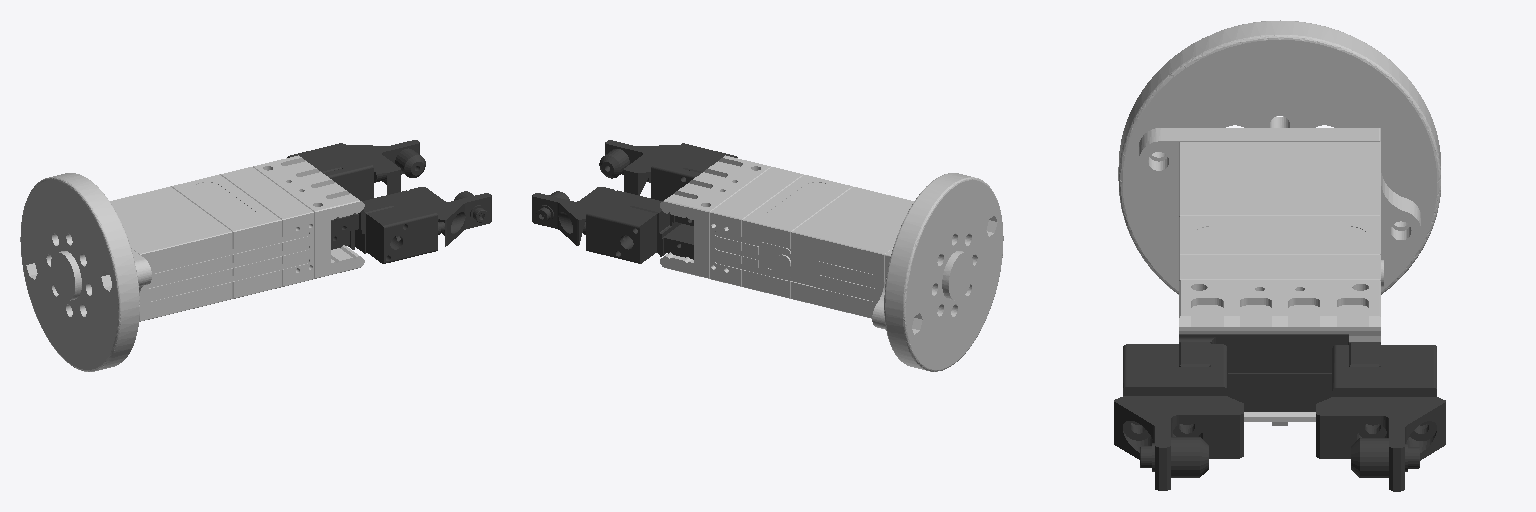
The robot description file, URDF, robot "kr3_egp50":
<?xml version="1.0" ?>
<!-- =================================================================================== -->
<!-- |    This document was autogenerated by xacro from industrial_cell.xacro          | -->
<!-- |    EDITING THIS FILE BY HAND IS NOT RECOMMENDED                                 | -->
<!-- =================================================================================== -->
<robot name="kr3_egp50">
  <!-- colours based on RAL values given in "FAQ - Colours of robot and robot
       controller", version "KUKA.Tifs | 2010-01-21 |YM| DefaultColorsRobotAndController.doc",
       downloaded 2015-07-18 from
       http://www.kuka.be/main/cservice/faqs/hardware/DefaultColorsRobotAndController.pdf

       all RAL colours converted using http://www.visual-graphics.de/en/customer-care/ral-colours
  -->
  <link name="base_link">
    <visual>
      <origin rpy="0 0 0" xyz="0 0 0"/>
      <geometry>
        <mesh filename="package://acroba_resources/meshes/kr3r540/visual/base_link.stl"/>
      </geometry>
      <material name="">
        <color rgba="0.5058823529411764 0.47058823529411764 0.38823529411764707 1.0"/>
      </material>
    </visual>
    <collision>
      <origin rpy="0 0 0" xyz="0 0 0"/>
      <geometry>
        <mesh filename="package://acroba_resources/meshes/kr3r540/collision/base_link.stl"/>
      </geometry>
    </collision>
  </link>
  <link name="link_1">
    <visual>
      <origin rpy="0 0 0" xyz="0 0 0"/>
      <geometry>
        <mesh filename="package://acroba_resources/meshes/kr3r540/visual/link_1.stl"/>
      </geometry>
      <material name="">
        <color rgba="0.9450980392156862 0.9254901960784314 1.0 1.0"/>
      </material>
    </visual>
    <collision>
      <origin rpy="0 0 0" xyz="0 0 0"/>
      <geometry>
        <mesh filename="package://acroba_resources/meshes/kr3r540/collision/link_1.stl"/>
      </geometry>
    </collision>
  </link>
  <link name="link_2">
    <visual>
      <origin rpy="0 0 0" xyz="0 0 0"/>
      <geometry>
        <mesh filename="package://acroba_resources/meshes/kr3r540/visual/link_2.stl"/>
      </geometry>
      <material name="">
        <color rgba="0.9450980392156862 0.9254901960784314 1.0 1.0"/>
      </material>
    </visual>
    <collision>
      <origin rpy="0 0 0" xyz="0 0 0"/>
      <geometry>
        <mesh filename="package://acroba_resources/meshes/kr3r540/collision/link_2.stl"/>
      </geometry>
    </collision>
  </link>
  <link name="link_3">
    <visual>
      <origin rpy="0 0 0" xyz="0 0 0"/>
      <geometry>
        <mesh filename="package://acroba_resources/meshes/kr3r540/visual/link_3.stl"/>
      </geometry>
      <material name="">
        <color rgba="0.9450980392156862 0.9254901960784314 1.0 1.0"/>
      </material>
    </visual>
    <collision>
      <origin rpy="0 0 0" xyz="0 0 0"/>
      <geometry>
        <mesh filename="package://acroba_resources/meshes/kr3r540/collision/link_3.stl"/>
      </geometry>
    </collision>
  </link>
  <link name="link_4">
    <visual>
      <origin rpy="0 0 0" xyz="0 0 0"/>
      <geometry>
        <mesh filename="package://acroba_resources/meshes/kr3r540/visual/link_4.stl"/>
      </geometry>
      <material name="">
        <color rgba="0.9450980392156862 0.9254901960784314 1.0 1.0"/>
      </material>
    </visual>
    <collision>
      <origin rpy="0 0 0" xyz="0 0 0"/>
      <geometry>
        <mesh filename="package://acroba_resources/meshes/kr3r540/collision/link_4.stl"/>
      </geometry>
    </collision>
  </link>
  <link name="link_5">
    <visual>
      <origin rpy="0 0 0" xyz="0 0 0"/>
      <geometry>
        <mesh filename="package://acroba_resources/meshes/kr3r540/visual/link_5.stl"/>
      </geometry>
      <material name="">
        <color rgba="0.9450980392156862 0.9254901960784314 1.0 1.0"/>
      </material>
    </visual>
    <collision>
      <origin rpy="0 0 0" xyz="0 0 0"/>
      <geometry>
        <mesh filename="package://acroba_resources/meshes/kr3r540/collision/link_5.stl"/>
      </geometry>
    </collision>
  </link>
  <link name="link_6">
    <visual>
      <origin rpy="0 0 0" xyz="0 0 0"/>
      <geometry>
        <mesh filename="package://acroba_resources/meshes/kr3r540/visual/link_6.stl"/>
      </geometry>
      <material name="">
        <color rgba="0.5058823529411764 0.47058823529411764 0.38823529411764707 1.0"/>
      </material>
    </visual>
    <collision>
      <origin rpy="0 0 0" xyz="0 0 0"/>
      <geometry>
        <mesh filename="package://acroba_resources/meshes/kr3r540/collision/link_6.stl"/>
      </geometry>
    </collision>
  </link>
  <!-- Following REP199, this frame shall be use to attach EEF or other equipment -->
  <link name="flange"/>
  <joint name="joint_a1" type="revolute">
    <origin rpy="0 0 0" xyz="0 0 0.345"/>
    <parent link="base_link"/>
    <child link="link_1"/>
    <axis xyz="0 0 -1"/>
    <limit effort="0" lower="-2.9670597283903604" upper="2.9670597283903604" velocity="9.250245035569947"/>
  </joint>
  <joint name="joint_a2" type="revolute">
    <origin rpy="0 0 0" xyz="0.020 0 0"/>
    <parent link="link_1"/>
    <child link="link_2"/>
    <axis xyz="0 1 0"/>
    <limit effort="0" lower="-2.9670597283903604" upper="0.8726646259971648" velocity="9.232791743050003"/>
  </joint>
  <joint name="joint_a3" type="revolute">
    <origin rpy="0 0 0" xyz="0.260 0 0"/>
    <parent link="link_2"/>
    <child link="link_3"/>
    <axis xyz="0 1 0"/>
    <limit effort="0" lower="-1.9198621771937625" upper="2.705260340591211" velocity="9.389871375729493"/>
  </joint>
  <joint name="joint_a4" type="revolute">
    <origin rpy="0 0 0" xyz="0 0 0.020"/>
    <parent link="link_3"/>
    <child link="link_4"/>
    <axis xyz="-1 0 0"/>
    <limit effort="0" lower="-3.0543261909900767" upper="3.0543261909900767" velocity="10.471975511965978"/>
  </joint>
  <joint name="joint_a5" type="revolute">
    <origin rpy="0 0 0" xyz="0.260 0 0"/>
    <parent link="link_4"/>
    <child link="link_5"/>
    <axis xyz="0 1 0"/>
    <limit effort="0" lower="-2.0943951023931953" upper="2.0943951023931953" velocity="10.471975511965978"/>
  </joint>
  <joint name="joint_a6" type="revolute">
    <origin rpy="0 0 0" xyz="0.075 0 0"/>
    <parent link="link_5"/>
    <child link="link_6"/>
    <axis xyz="-1 0 0"/>
    <limit effort="0" lower="-6.1086523819801535" upper="6.1086523819801535" velocity="13.962634015954636"/>
  </joint>
  <joint name="joint_a6-tool0" type="fixed">
    <parent link="link_6"/>
    <child link="flange"/>
    <origin rpy="0 0 0" xyz="0 0 0"/>
  </joint>
  <!-- ROS base_link to KUKA $ROBROOT coordinate system transform -->
  <link name="base"/>
  <joint name="base_link-base" type="fixed">
    <origin rpy="0 0 0" xyz="0 0 0"/>
    <parent link="base_link"/>
    <child link="base"/>
  </joint>
  <!-- This frame corresponds to the $TOOL coordinate system in KUKA KRC controllers -->
  <link name="tool0"/>
  <joint name="flange-tool0" type="fixed">
    <parent link="flange"/>
    <child link="tool0"/>
    <origin rpy="0 1.5707963267948966 0" xyz="0 0 0"/>
  </joint>
  <material name="schunk_dark_grey">
    <color rgba="0.3 0.3 0.3 1.0"/>
  </material>
  <material name="schunk_grey">
    <color rgba="0.8 0.8 0.8 1.0"/>
  </material>
  <link name="base_tool"/>
  <link name="tool_plate">
    <visual>
      <origin rpy="0 0 0" xyz="0 0 0.0"/>
      <geometry>
        <mesh filename="package://acroba_resources/meshes/schunk_EGP50/visual/schunk_plate.stl"/>
      </geometry>
      <material name="schunk_grey"/>
    </visual>
    <collision>
      <origin rpy="0 0 0" xyz="0 0 -0.0145"/>
      <geometry>
        <cylinder length="0.013" radius="0.04"/>
      </geometry>
    </collision>
  </link>
  <link name="tool_adaptor">
    <visual>
      <origin rpy="0 0 0" xyz="0 0 0.0"/>
      <geometry>
        <mesh filename="package://acroba_resources/meshes/schunk_EGP50/visual/schunk_adaptor.stl"/>
      </geometry>
      <material name="schunk_grey"/>
    </visual>
    <collision>
      <origin rpy="0 0 0" xyz="0 0 -0.004"/>
      <geometry>
        <box size="0.03 0.07 0.008"/>
      </geometry>
    </collision>
  </link>
  <link name="tool_body">
    <visual>
      <origin rpy="0 0 0" xyz="0 0 0.0"/>
      <geometry>
        <mesh filename="package://acroba_resources/meshes/schunk_EGP50/visual/schunk_body_scaled.stl"/>
      </geometry>
      <material name="schunk_grey"/>
    </visual>
    <collision>
      <origin rpy="0 0 0" xyz="0 0 0.0522"/>
      <geometry>
        <box size="0.03 0.0508 0.104"/>
      </geometry>
    </collision>
  </link>
  <link name="_left_base_finger">
    <visual>
      <origin rpy="0 0 0" xyz="0 0 0.0"/>
      <geometry>
        <mesh filename="package://acroba_resources/meshes/schunk_EGP50/visual/schunk_left_finger_base_scaled.stl"/>
      </geometry>
      <material name="schunk_dark_grey"/>
    </visual>
    <collision>
      <origin rpy="0 0 0" xyz="0.0 -0.021 0.11"/>
      <geometry>
        <box size="0.0195 0.008 0.014"/>
      </geometry>
    </collision>
  </link>
  <link name="_right_base_finger">
    <visual>
      <origin rpy="0 0 0" xyz="0 0 0.0"/>
      <geometry>
        <mesh filename="package://acroba_resources/meshes/schunk_EGP50/visual/schunk_right_finger_base_scaled.stl"/>
      </geometry>
      <material name="schunk_dark_grey"/>
    </visual>
    <collision>
      <origin rpy="0 0 0" xyz="0.0 0.021 0.11"/>
      <geometry>
        <box size="0.0195 0.008 0.014"/>
      </geometry>
    </collision>
  </link>
  <link name="_left_adaptor_finger">
    <visual>
      <origin rpy="0 0 0" xyz="0 0 0.0"/>
      <geometry>
        <mesh filename="package://acroba_resources/meshes/schunk_EGP50/visual/schunk_left_adaptor_scaled.stl"/>
      </geometry>
      <material name="schunk_dark_grey"/>
    </visual>
    <collision>
      <origin rpy="0 0 0" xyz="0.0 -0.0264 0.1231"/>
      <geometry>
        <box size="0.017 0.026 0.036"/>
      </geometry>
    </collision>
  </link>
  <link name="_right_adaptor_finger">
    <visual>
      <origin rpy="0 0 0" xyz="0 0 0.0"/>
      <geometry>
        <mesh filename="package://acroba_resources/meshes/schunk_EGP50/visual/schunk_right_adaptor_scaled.stl"/>
      </geometry>
      <material name="schunk_dark_grey"/>
    </visual>
    <collision>
      <origin rpy="0 0 0" xyz="0.0 0.0264 0.1231"/>
      <geometry>
        <box size="0.017 0.026 0.036"/>
      </geometry>
    </collision>
  </link>
  <link name="_left_visual_finger_tip">
    <visual>
      <origin rpy="0 0 0" xyz="0 0 0.0"/>
      <geometry>
        <mesh filename="package://acroba_resources/meshes/schunk_EGP50/visual/schunk_left_tip_visual.stl"/>
      </geometry>
      <material name="schunk_dark_grey"/>
    </visual>
    <collision>
      <origin rpy="0 0 0" xyz="0.0 -0.029 0.1505"/>
      <geometry>
        <box size="0.012 0.004 0.019"/>
      </geometry>
    </collision>
  </link>
  <link name="_right_visual_finger_tip">
    <visual>
      <origin rpy="0 0 0" xyz="0 0 0.0"/>
      <geometry>
        <mesh filename="package://acroba_resources/meshes/schunk_EGP50/visual/schunk_right_tip_visual.stl"/>
      </geometry>
      <material name="schunk_dark_grey"/>
    </visual>
    <collision>
      <origin rpy="0 0 0" xyz="0.0 0.029 0.1505"/>
      <geometry>
        <box size="0.012 0.004 0.019"/>
      </geometry>
    </collision>
  </link>
  <link name="_right_collision_finger_tip">
    <collision>
      <origin rpy="1.5707 0 0" xyz="0.0 0.0265 0.153"/>
      <geometry>
        <cylinder length="0.017" radius="0.005"/>
      </geometry>
    </collision>
  </link>
  <link name="_left_collision_finger_tip">
    <collision>
      <origin rpy="1.5707 0 0" xyz="0.0 -0.0266 0.153"/>
      <geometry>
        <cylinder length="0.017" radius="0.005"/>
      </geometry>
    </collision>
  </link>
  <joint name="_tool_base_plate" type="fixed">
    <origin rpy="0 0 0" xyz="0 0 0.018"/>
    <parent link="base_tool"/>
    <child link="tool_plate"/>
  </joint>
  <joint name="_tool_plate_adaptor" type="fixed">
    <origin rpy="0 0 0" xyz="0 0 0.0"/>
    <parent link="tool_plate"/>
    <child link="tool_adaptor"/>
  </joint>
  <joint name="_tool_adaptor_body" type="fixed">
    <origin rpy="0 0 0" xyz="0 0 0.0"/>
    <parent link="tool_adaptor"/>
    <child link="tool_body"/>
  </joint>
  <joint name="_left_finger_base_joint" type="prismatic">
    <origin rpy="0 0 0" xyz="0 0 0.0"/>
    <parent link="tool_body"/>
    <child link="_left_base_finger"/>
    <axis xyz="0 1 0"/>
    <limit effort="215" lower="0" upper="0.008" velocity="10"/>
  </joint>
  <joint name="_right_finger_base_joint" type="prismatic">
    <origin rpy="0 0 0" xyz="0 0 0.0"/>
    <parent link="tool_body"/>
    <child link="_right_base_finger"/>
    <axis xyz="0 -1 0"/>
    <limit effort="215" lower="0" upper="0.008" velocity="10"/>
  </joint>
  <joint name="_left_base_adaptor_joint" type="fixed">
    <origin rpy="0 0 0" xyz="0 0 0.0"/>
    <parent link="_left_base_finger"/>
    <child link="_left_adaptor_finger"/>
  </joint>
  <joint name="_right_base_adaptor_joint" type="fixed">
    <origin rpy="0 0 0" xyz="0 0 0.0"/>
    <parent link="_right_base_finger"/>
    <child link="_right_adaptor_finger"/>
  </joint>
  <joint name="_left_adaptor_vis_joint" type="fixed">
    <origin rpy="0 0 0" xyz="0 0 0.0"/>
    <parent link="_left_adaptor_finger"/>
    <child link="_left_visual_finger_tip"/>
  </joint>
  <joint name="_right_adaptor_vis_joint" type="fixed">
    <origin rpy="0 0 0" xyz="0 0 0.0"/>
    <parent link="_right_adaptor_finger"/>
    <child link="_right_visual_finger_tip"/>
  </joint>
  <joint name="_right_vis_col_joint" type="fixed">
    <origin rpy="0 0 0" xyz="0 0 0.0"/>
    <parent link="_right_visual_finger_tip"/>
    <child link="_right_collision_finger_tip"/>
  </joint>
  <joint name="_left_vis_col_joint" type="fixed">
    <origin rpy="0 0 0" xyz="0 0 0.0"/>
    <parent link="_left_visual_finger_tip"/>
    <child link="_left_collision_finger_tip"/>
  </joint>
  <link name="world"/>
  <joint name="world_joint" type="fixed">
    <parent link="world"/>
    <child link="base_link"/>
    <origin rpy="0.0 0.0 0.0" xyz="0 0 0"/>
  </joint>
  <joint name="tool_joint" type="fixed">
    <parent link="tool0"/>
    <child link="base_tool"/>
    <origin rpy="0.0 0.0 3.141592" xyz="0.0 0.0 0.0"/>
  </joint>
  <!-- Disabling collision between tool and robot, maybe not necessary-->
  <disable_collision link1="link_6" link2="tool_body"/>
</robot>

--- Render facts (derived) ---
3 views of the same robot in one strip: view 1: azimuth 30°, elevation 25°; view 2: azimuth 150°, elevation 25°; view 3: azimuth 270°, elevation 25° (orthographic).
Robot: kr3_egp50 — 23 links, 22 joints (6 revolute, 2 prismatic, 14 fixed); root link world; default pose: every joint at zero.
Visible links, largest first — view 1: tool_body, tool_plate, _right_adaptor_finger, _right_visual_finger_tip, _left_visual_finger_tip, _left_adaptor_finger, _right_base_finger, _left_base_finger; view 2: tool_body, tool_plate, _left_adaptor_finger, _left_visual_finger_tip, _right_visual_finger_tip, _right_adaptor_finger, _left_base_finger; view 3: tool_body, tool_plate, _left_visual_finger_tip, _right_visual_finger_tip, tool_adaptor, _right_base_finger, _right_adaptor_finger, _left_adaptor_finger, _left_base_finger.
Link boxes in pixels (<box>): tool_body: <box>110,155,364,321</box>; tool_plate: <box>20,173,139,371</box>; _right_adaptor_finger: <box>362,190,437,263</box>; _right_visual_finger_tip: <box>408,187,491,246</box>; _left_visual_finger_tip: <box>345,140,425,194</box>; _left_adaptor_finger: <box>287,143,373,200</box>; _right_base_finger: <box>331,199,393,253</box>; _left_base_finger: <box>313,161,354,249</box>; tool_body: <box>660,155,913,318</box>; tool_plate: <box>884,173,1003,371</box>; _left_adaptor_finger: <box>586,190,669,263</box>; _left_visual_finger_tip: <box>532,187,615,245</box>; _right_visual_finger_tip: <box>599,140,678,195</box>; _right_adaptor_finger: <box>651,143,737,200</box>; _left_base_finger: <box>630,199,693,259</box>; tool_body: <box>1179,142,1383,425</box>; tool_plate: <box>1118,20,1440,294</box>; _left_visual_finger_tip: <box>1316,388,1445,491</box>; _right_visual_finger_tip: <box>1114,396,1243,490</box>; tool_adaptor: <box>1139,128,1420,250</box>; _right_base_finger: <box>1179,334,1348,372</box>; _right_adaptor_finger: <box>1123,344,1227,428</box>; _left_adaptor_finger: <box>1332,345,1436,428</box>; _left_base_finger: <box>1228,342,1380,411</box>.
Bounding box of the posed robot: 0.1814 × 0.082 × 0.08 m (x, y, z).
9 mesh visuals loaded from 16 distinct referenced files (9 binary STL); not drawn: 7 (reference not matched to a file when rendering).
